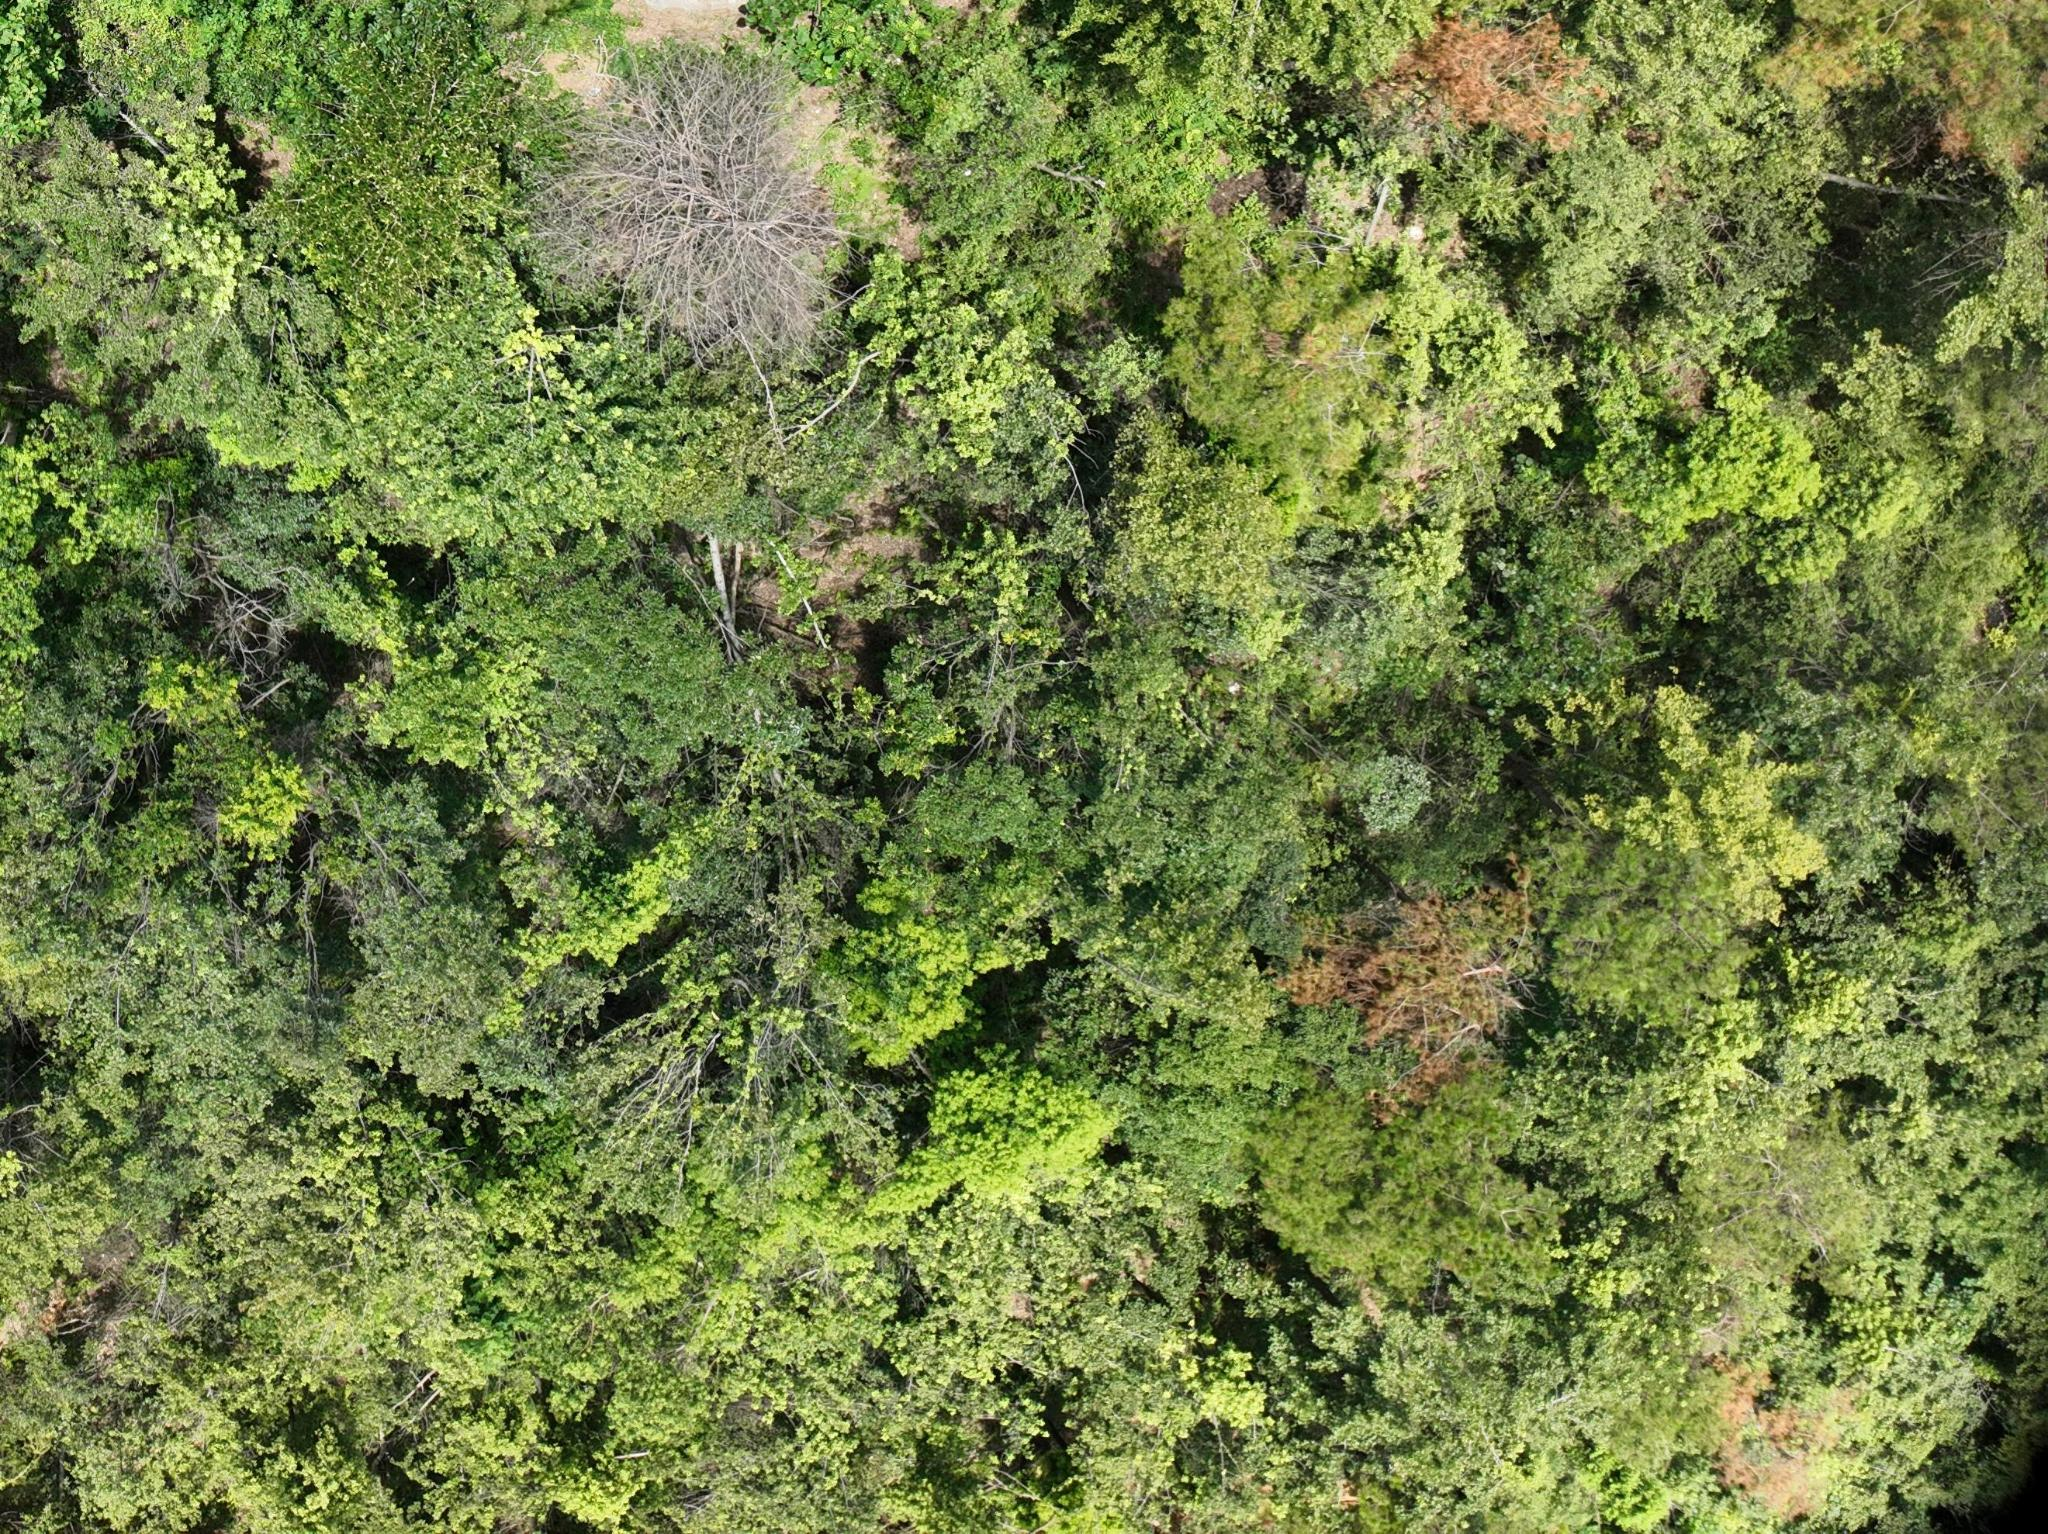dead: (533, 44, 860, 375)
heavy: (1291, 885, 1521, 1097), (1384, 11, 1587, 145)
light: (1774, 10, 2038, 174)
